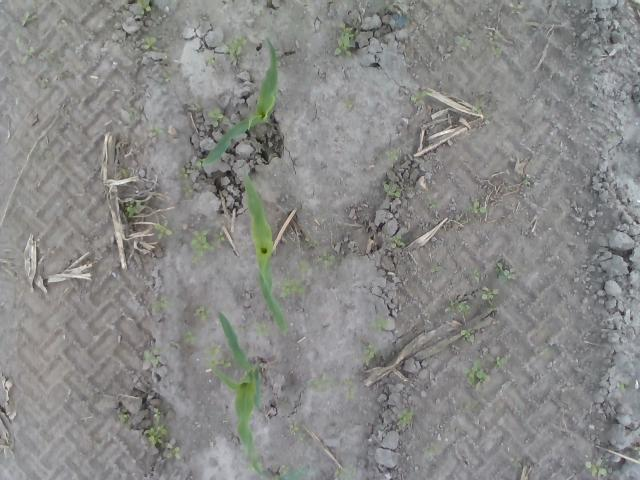Maize: (206, 308, 274, 480), (200, 34, 280, 167), (242, 168, 290, 334)
Weeds: (307, 376, 359, 401), (142, 413, 174, 449), (462, 359, 489, 386), (190, 229, 216, 257), (333, 24, 352, 58), (224, 31, 248, 56), (14, 30, 35, 57), (280, 278, 304, 299), (279, 463, 305, 480), (142, 347, 163, 367), (490, 30, 504, 59), (360, 344, 378, 366), (584, 459, 606, 476), (318, 254, 337, 273), (152, 222, 172, 240), (290, 424, 308, 442), (448, 300, 472, 313), (334, 466, 356, 480), (454, 33, 472, 50), (471, 96, 488, 114), (193, 304, 210, 322), (125, 201, 144, 217), (479, 286, 500, 300), (207, 110, 223, 128), (156, 295, 174, 310), (166, 445, 184, 460), (369, 318, 388, 332), (472, 199, 489, 214), (494, 354, 512, 368), (383, 183, 401, 197), (398, 408, 413, 424), (496, 264, 510, 281), (256, 320, 270, 337), (294, 258, 310, 272), (182, 329, 196, 345), (508, 1, 522, 16), (137, 0, 153, 12), (116, 408, 128, 424), (392, 235, 406, 248), (175, 166, 189, 179), (115, 166, 130, 178), (162, 66, 172, 83), (213, 230, 226, 243), (144, 36, 156, 50), (150, 126, 164, 138), (385, 149, 399, 160), (210, 344, 222, 356), (461, 328, 472, 340), (20, 10, 29, 24), (430, 199, 442, 209), (222, 358, 232, 369), (618, 382, 628, 392), (194, 158, 204, 167), (472, 271, 482, 280), (128, 112, 138, 121), (633, 446, 640, 458), (343, 100, 353, 108), (419, 91, 432, 97), (206, 55, 214, 64), (182, 186, 193, 192), (191, 103, 198, 112), (430, 266, 440, 272), (410, 96, 418, 103)
